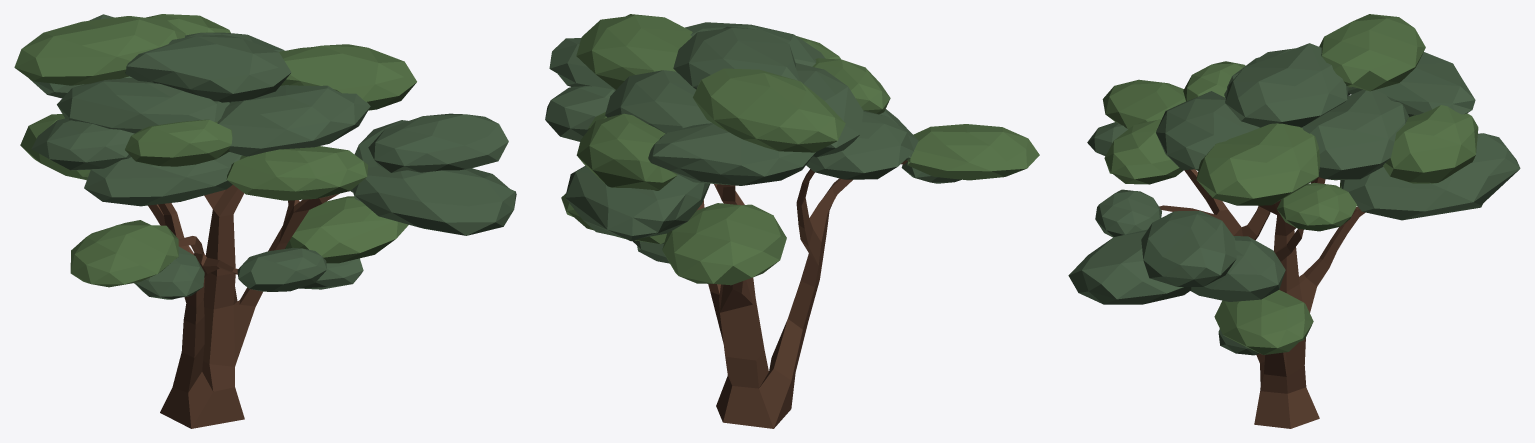
Rendered from tree.fbx.
3 renders of one model, left to right at view 1: azimuth 30°, elevation 25°; view 2: azimuth 150°, elevation 25°; view 3: azimuth 270°, elevation 25°, orthographic. The views are drawn at different scales.
Visible parts, largest first — view 1: tree3light; view 2: tree3light; view 3: tree3light.
Part boxes in pixels (bbox=[...]): tree3light: bbox=[14, 14, 516, 428]; tree3light: bbox=[545, 14, 1039, 428]; tree3light: bbox=[1068, 14, 1520, 428].
Bounding box in the file's own units: 2008 × 1586 × 1833.
